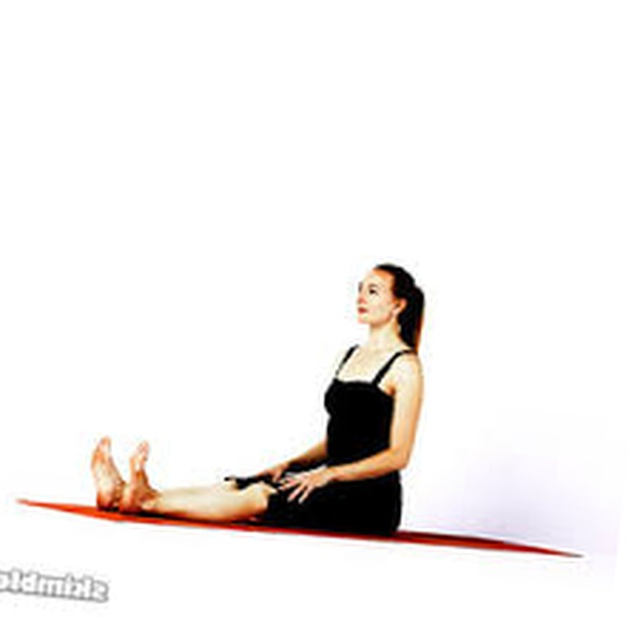Staff_Pose: (87, 263, 425, 536)
